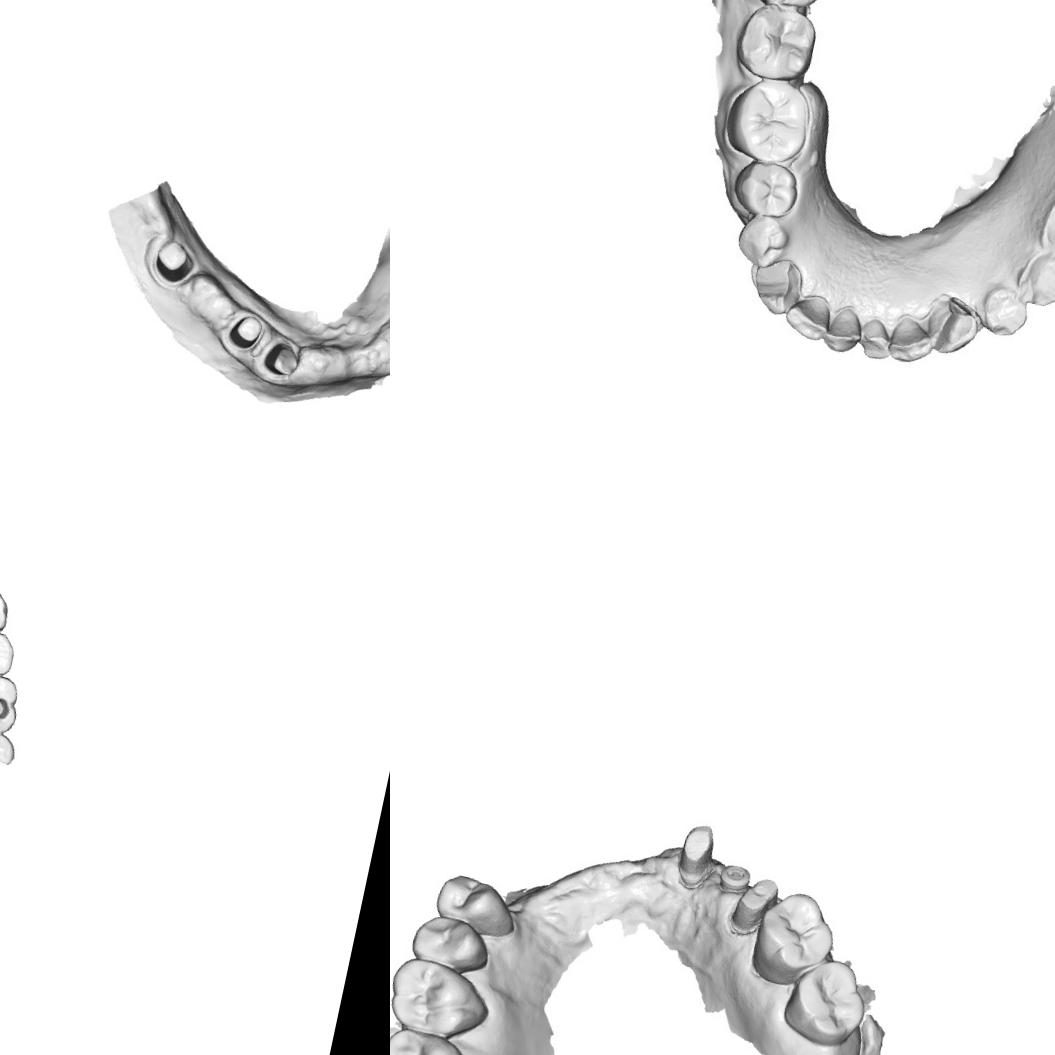abutment: (145, 235, 204, 294), (224, 308, 269, 356), (260, 338, 305, 382)
canine: (924, 294, 988, 363), (744, 250, 807, 320)
crown: (724, 870, 782, 944), (671, 819, 722, 893)
implant: (715, 860, 753, 898)
incisor: (782, 290, 832, 346), (888, 314, 936, 370), (822, 304, 864, 355), (859, 318, 894, 355)
molar: (745, 884, 844, 994), (390, 952, 498, 1048), (777, 950, 875, 1054), (718, 70, 818, 170), (730, 0, 825, 87), (390, 1021, 488, 1055), (0, 663, 25, 743), (0, 723, 18, 765)
premolar: (430, 870, 524, 942), (406, 909, 496, 981), (731, 154, 801, 221), (728, 206, 795, 271), (0, 622, 19, 686)
